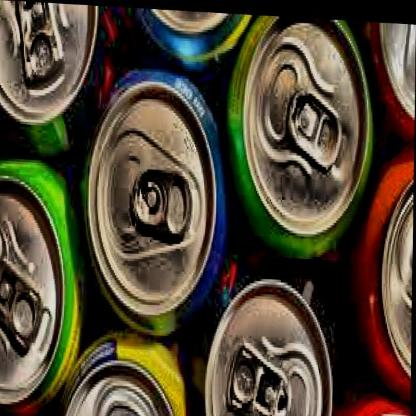Can: (75, 56, 229, 348), (224, 11, 376, 263), (1, 145, 90, 416), (200, 262, 340, 416), (342, 132, 414, 394), (0, 0, 116, 162), (58, 326, 198, 416), (126, 6, 254, 74), (360, 17, 416, 145), (335, 388, 411, 416)
